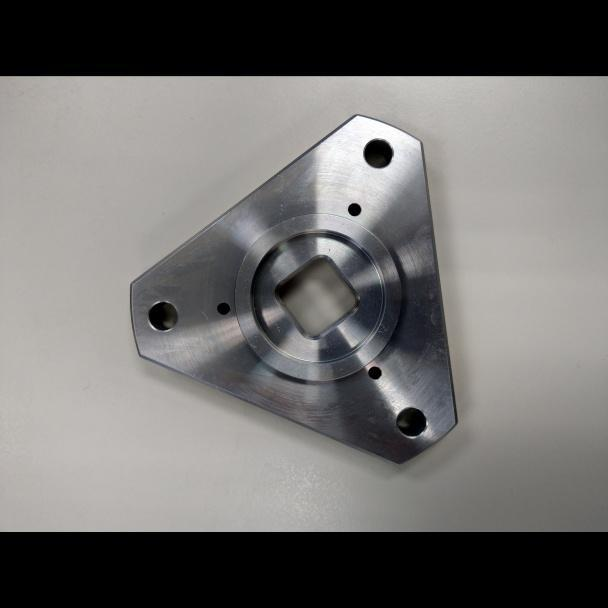hole: (393, 401, 428, 441), (144, 297, 180, 335), (359, 134, 397, 170), (366, 362, 384, 383), (215, 300, 232, 317), (346, 200, 363, 217)
